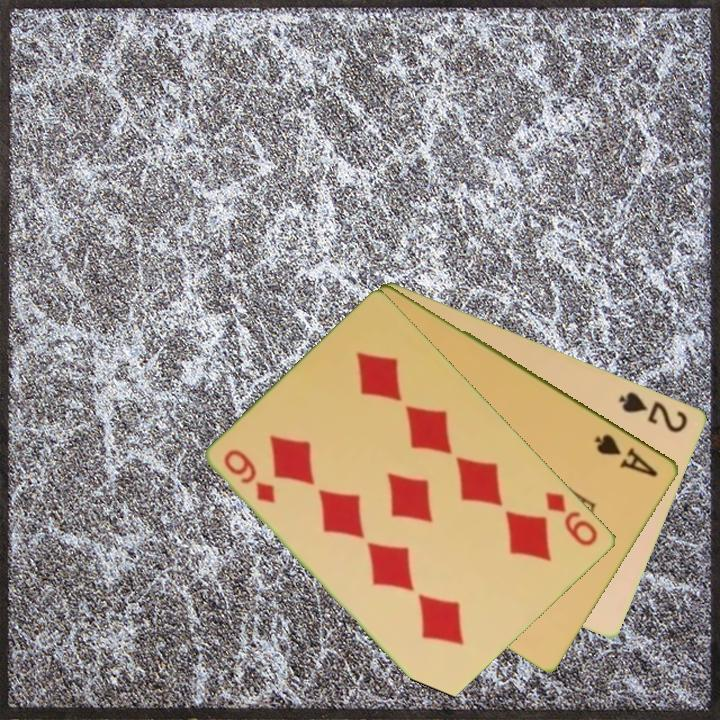2s: (615, 387, 692, 436)
9d: (542, 487, 601, 550), (221, 445, 279, 507)
As: (591, 430, 662, 480)
